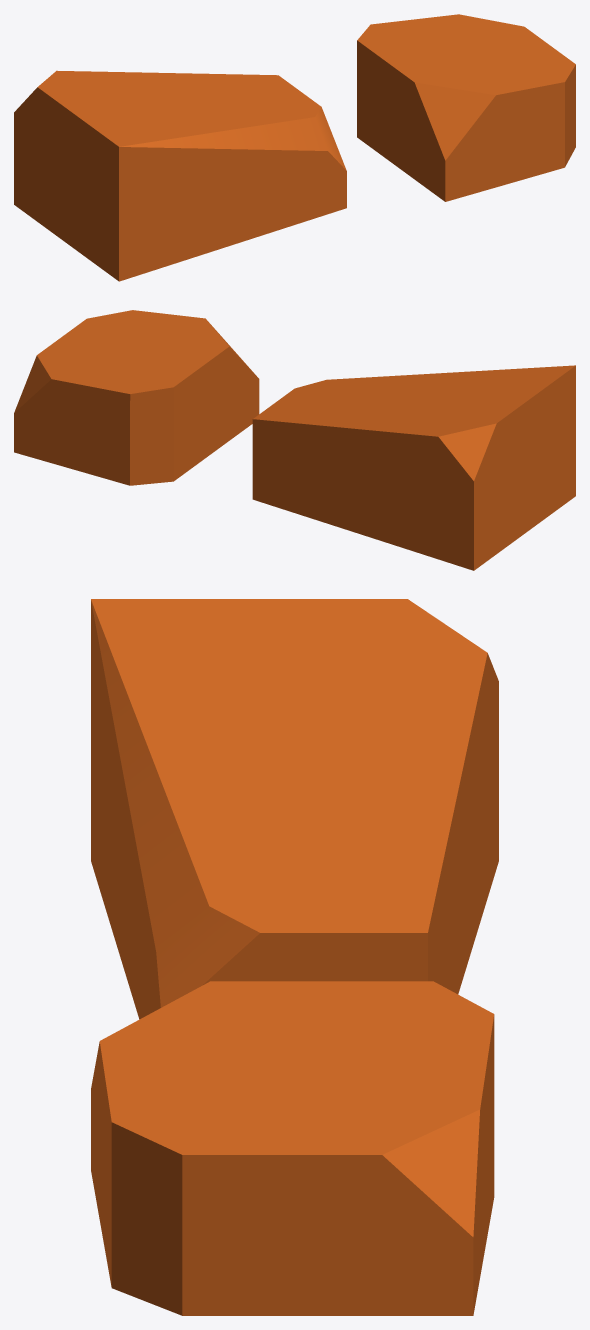
The model's file is OBJ_SmallRock_04.FBX.
The picture shows the model from 3 angles, top to bottom: view 1: azimuth 30°, elevation 25°; view 2: azimuth 150°, elevation 25°; view 3: azimuth 270°, elevation 25°; orthographic projection. The views are drawn at different scales.
Parts seen in each view (by area): view 1: OBJ_SmallRock_04; view 2: OBJ_SmallRock_04; view 3: OBJ_SmallRock_04.
Part boxes in pixels (<box>): OBJ_SmallRock_04: <box>14,14,575,281</box>; OBJ_SmallRock_04: <box>14,310,575,570</box>; OBJ_SmallRock_04: <box>91,599,498,1315</box>.
Bounding box in the file's own units: 3.54 × 0.9496 × 1.34.
